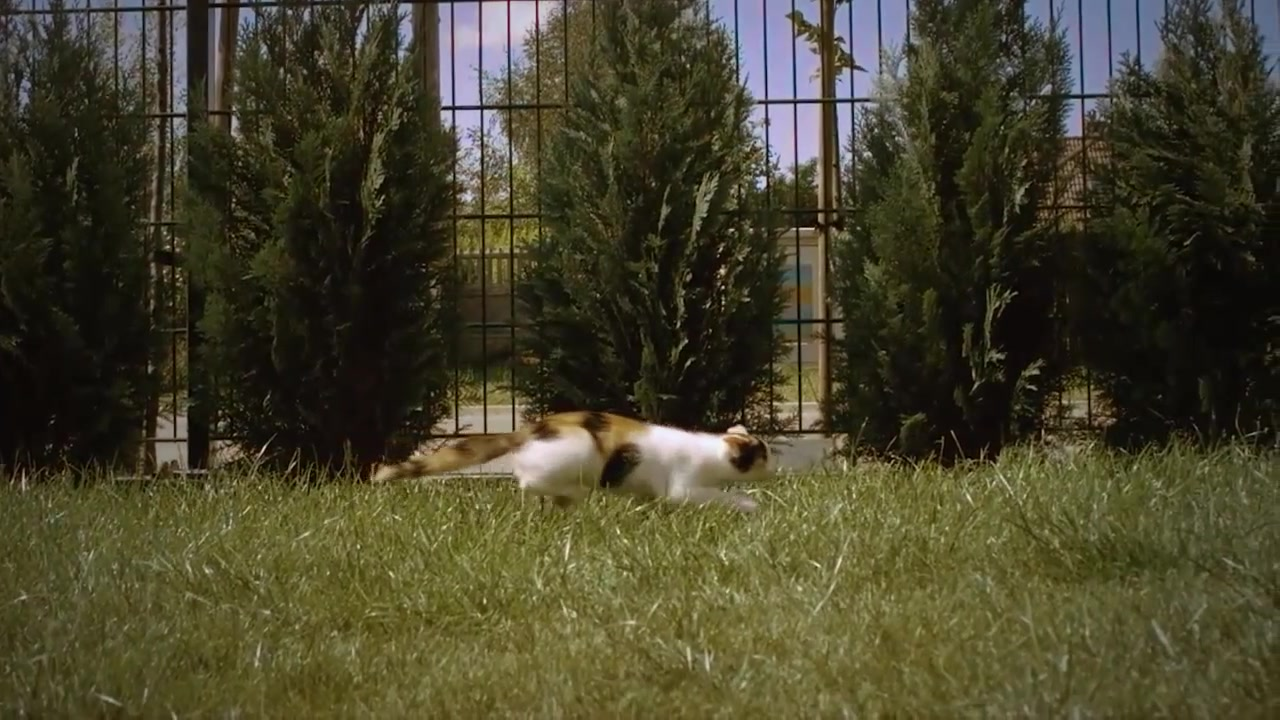cat: (369, 405, 778, 514)
